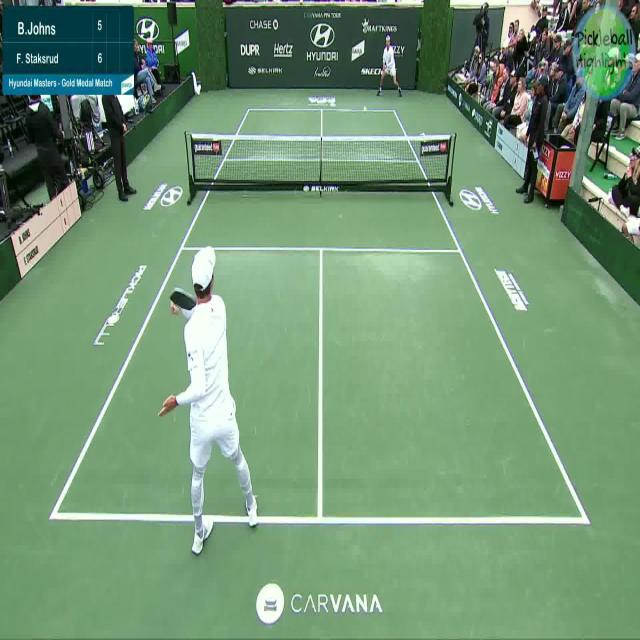Court: (48, 109, 591, 524)
ball: (361, 97, 371, 119)
